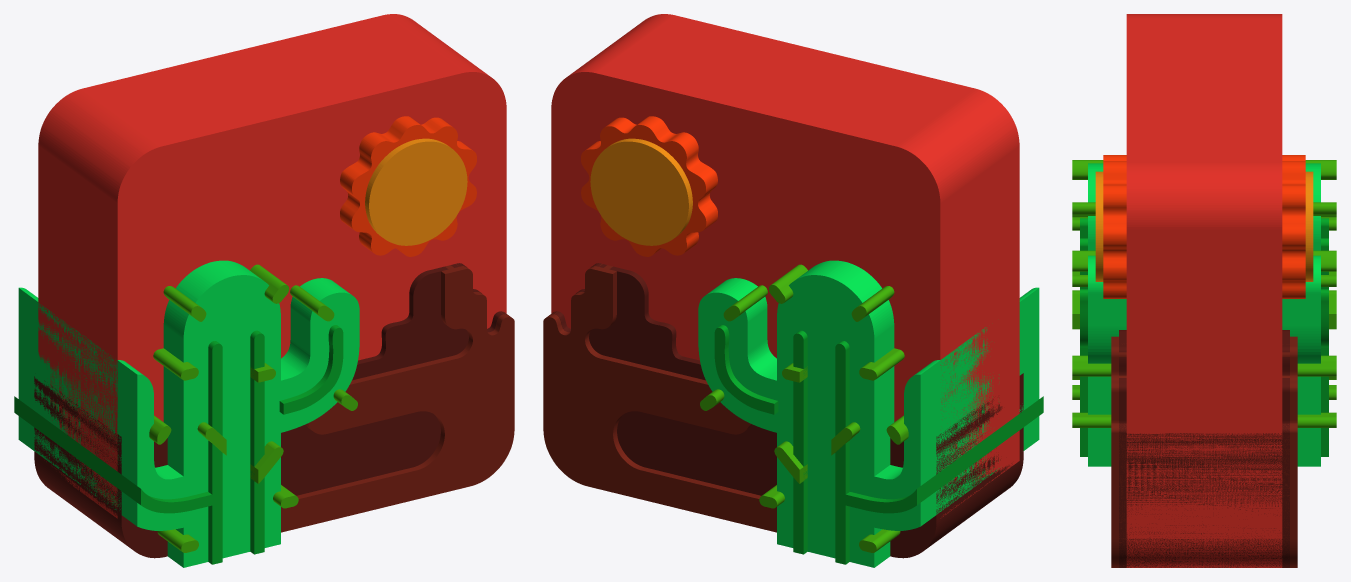
The picture shows the model from 3 angles, left to right: view 1: azimuth 30°, elevation 25°; view 2: azimuth 150°, elevation 25°; view 3: azimuth 270°, elevation 25°; orthographic projection.
Parts seen in each view (by area): view 1: U+1F3DC_layer00_obj00, U+1F3DC_layer05_obj00, U+1F3DC_layer02_obj00, U+1F3DC_layer01_obj00, U+1F3DC_layer06_obj00, U+1F3DC_layer04_obj00, U+1F3DC_layer03_obj00, U+1F3DC_layer07_obj00; view 2: U+1F3DC_layer00_obj00, U+1F3DC_layer05_obj00, U+1F3DC_layer02_obj00, U+1F3DC_layer01_obj00, U+1F3DC_layer06_obj00, U+1F3DC_layer04_obj00, U+1F3DC_layer03_obj00, U+1F3DC_layer07_obj00; view 3: U+1F3DC_layer00_obj00, U+1F3DC_layer01_obj00, U+1F3DC_layer05_obj00, U+1F3DC_layer02_obj00, U+1F3DC_layer03_obj00, U+1F3DC_layer07_obj00, U+1F3DC_layer06_obj00, U+1F3DC_layer04_obj00.
Part boxes in pixels (box(x1,y1,x2,y2)): U+1F3DC_layer00_obj00: box(38, 14, 506, 518); U+1F3DC_layer05_obj00: box(18, 260, 359, 567); U+1F3DC_layer02_obj00: box(281, 264, 514, 532); U+1F3DC_layer01_obj00: box(34, 263, 506, 558); U+1F3DC_layer06_obj00: box(14, 325, 343, 564); U+1F3DC_layer04_obj00: box(365, 138, 467, 245); U+1F3DC_layer03_obj00: box(340, 116, 476, 256); U+1F3DC_layer07_obj00: box(149, 264, 357, 552); U+1F3DC_layer00_obj00: box(551, 14, 1019, 518); U+1F3DC_layer05_obj00: box(698, 260, 1039, 567); U+1F3DC_layer02_obj00: box(543, 264, 776, 532); U+1F3DC_layer01_obj00: box(551, 263, 1023, 558); U+1F3DC_layer06_obj00: box(714, 325, 1043, 564); U+1F3DC_layer04_obj00: box(590, 138, 692, 245); U+1F3DC_layer03_obj00: box(581, 116, 717, 256); U+1F3DC_layer07_obj00: box(700, 264, 908, 552); U+1F3DC_layer00_obj00: box(1126, 14, 1282, 567); U+1F3DC_layer01_obj00: box(1119, 330, 1289, 567); U+1F3DC_layer05_obj00: box(1088, 163, 1320, 466); U+1F3DC_layer02_obj00: box(1111, 336, 1297, 567); U+1F3DC_layer03_obj00: box(1103, 155, 1305, 298); U+1F3DC_layer07_obj00: box(1072, 160, 1336, 427); U+1F3DC_layer06_obj00: box(1080, 218, 1328, 456); U+1F3DC_layer04_obj00: box(1095, 171, 1313, 281).
Size of the model in its own units: 0.5678 by 0.568 by 0.34.
